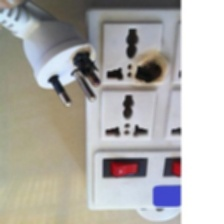three_eye_plug: (78, 3, 223, 221)
